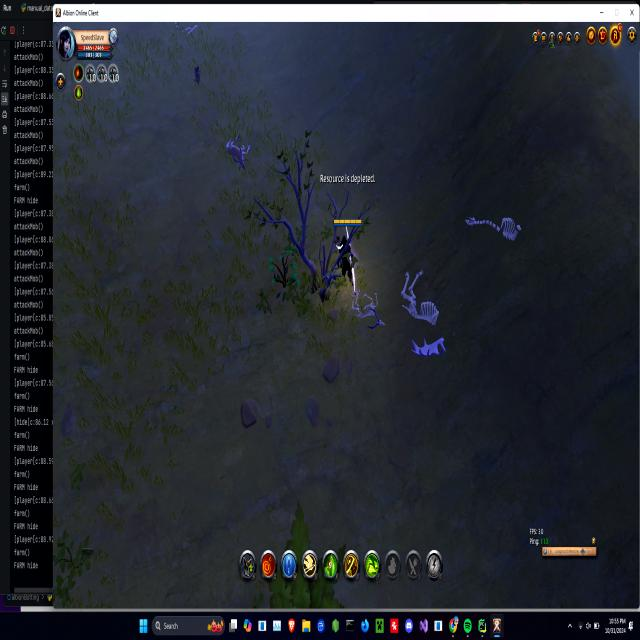mob: (224, 133, 252, 171)
red: (332, 216, 360, 282)
